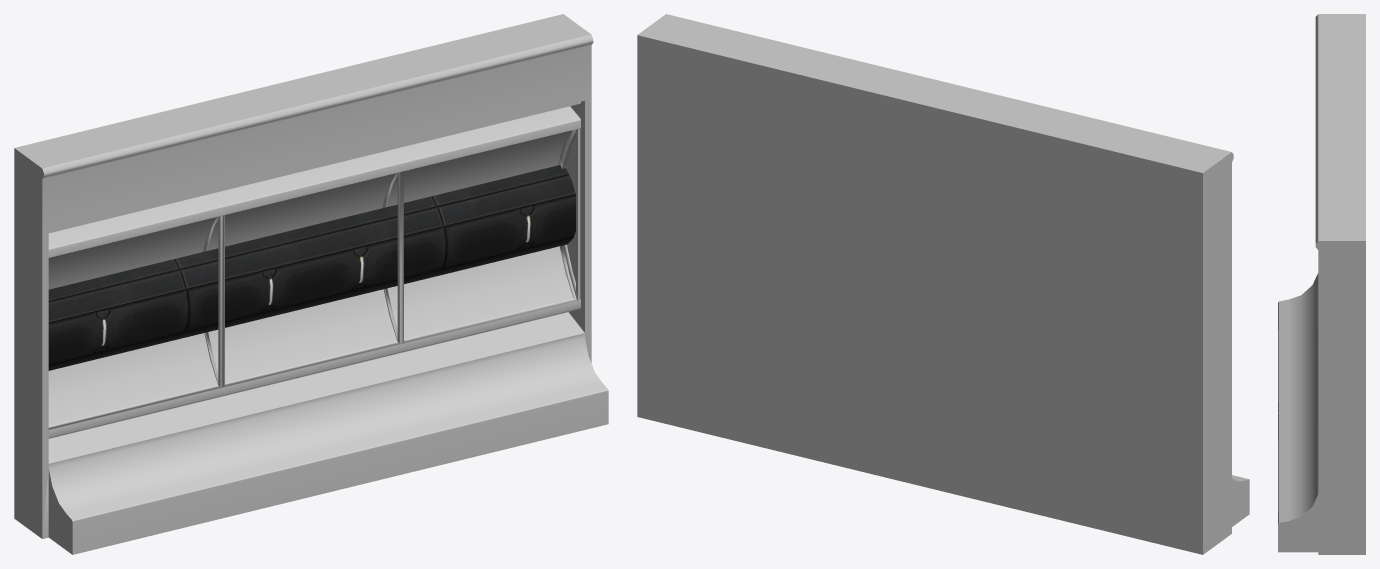
The model's file is Prop_Wall_04_b_V5.FBX.
3 renders of one model, left to right at view 1: azimuth 30°, elevation 25°; view 2: azimuth 150°, elevation 25°; view 3: azimuth 270°, elevation 25°, orthographic. The views are drawn at different scales.
Visible parts, largest first — view 1: Prop_Wall_04_b_V5; view 2: Prop_Wall_04_b_V5; view 3: Prop_Wall_04_b_V5.
Part boxes in pixels (x1,y1,x2,y2): Prop_Wall_04_b_V5: (14,14,608,554); Prop_Wall_04_b_V5: (637,14,1249,554); Prop_Wall_04_b_V5: (1278,14,1365,554).
Size of the model in its own units: 5000 by 818 by 3224.
